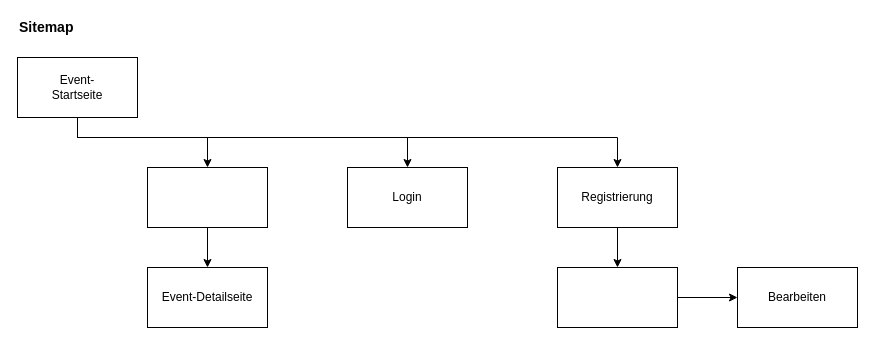
Image size: 875x345. Some labels were removed from this diagram. Each missing label, with the centre of its shape:
Event-Übertsicht (Alle Events oder Suchergebnisseite): pixel 207 197
Eventübersicht: pixel 617 297
